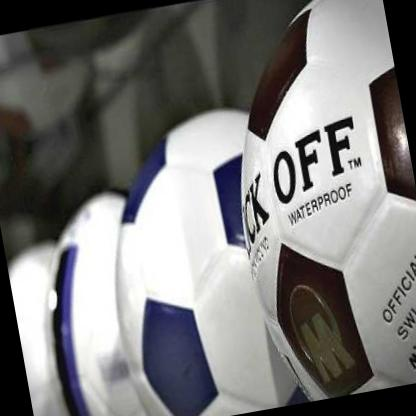ball: (202, 0, 416, 408), (82, 98, 307, 416)
